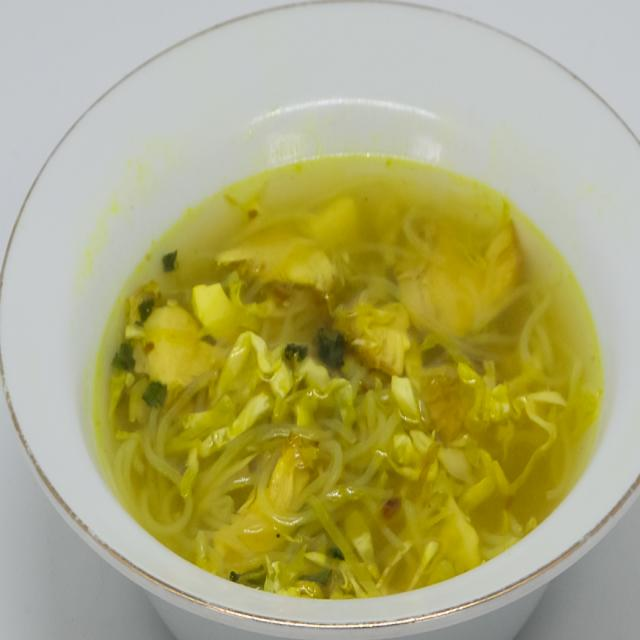Soto-Lamongan: (98, 84, 613, 602)
